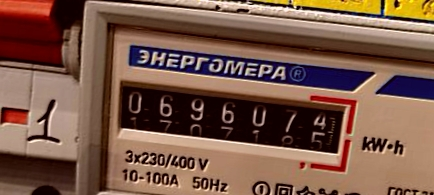0: (125, 89, 146, 116), (250, 102, 269, 130)
4: (312, 109, 329, 131)
5: (310, 131, 326, 151)
6: (219, 98, 239, 127), (156, 92, 177, 119)
7: (281, 107, 300, 135)
9: (187, 96, 208, 124)
screen: (107, 67, 361, 175)
